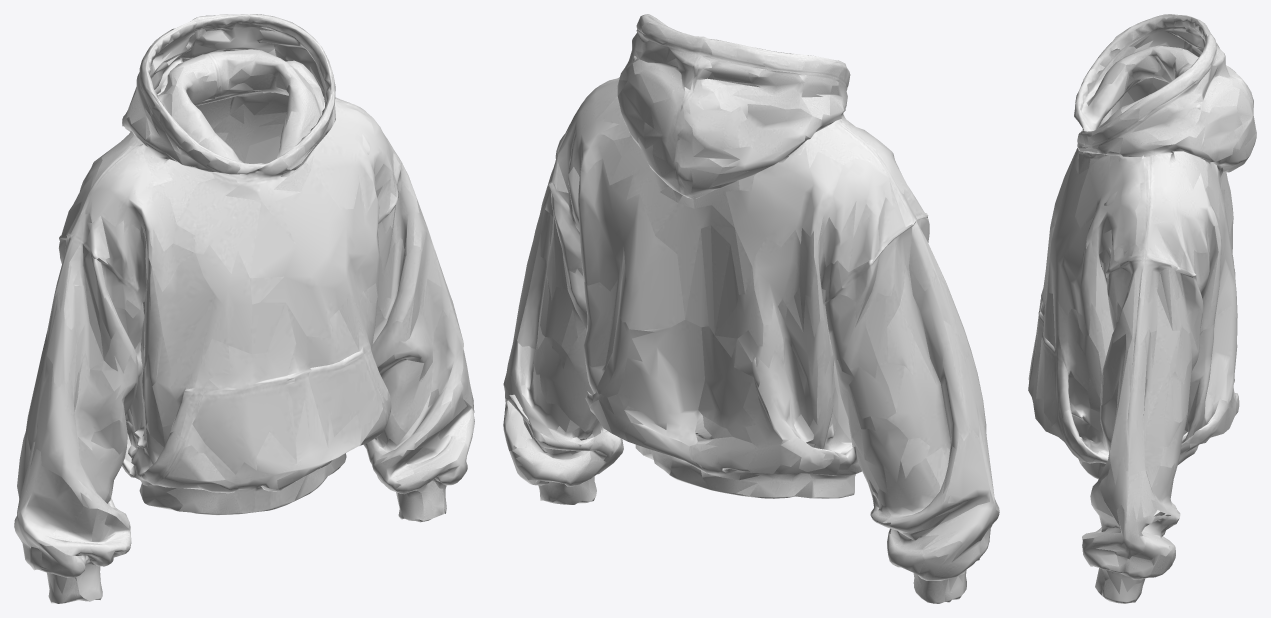
The model's file is br-sudadera.glb.
3 renders of one model, left to right at view 1: azimuth 30°, elevation 25°; view 2: azimuth 150°, elevation 25°; view 3: azimuth 270°, elevation 25°, orthographic. The views are drawn at different scales.
Parts seen in each view (by area): view 1: Cuerpo; view 2: Cuerpo; view 3: Cuerpo.
Boxes of the visible parts, x1,y1,x2,y2 form: Cuerpo: (14, 14, 474, 603); Cuerpo: (503, 14, 999, 603); Cuerpo: (1028, 14, 1256, 603).
Size of the model in its own units: 0.8047 by 0.8603 by 0.3699.
Materials: 1 (1 with a texture image).
